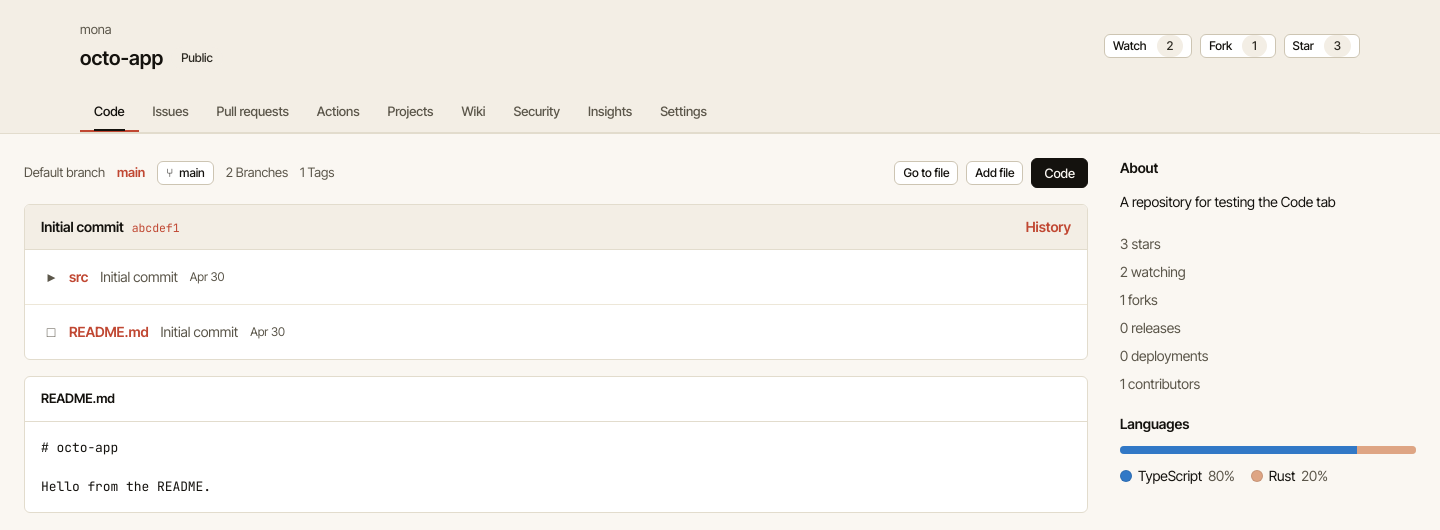
Test case: RepositoryCodeOverview › optimistically toggles the star control through a same-origin route
Click the button "Star 3".
click(1322, 46)  # box [1284,34,1360,58]
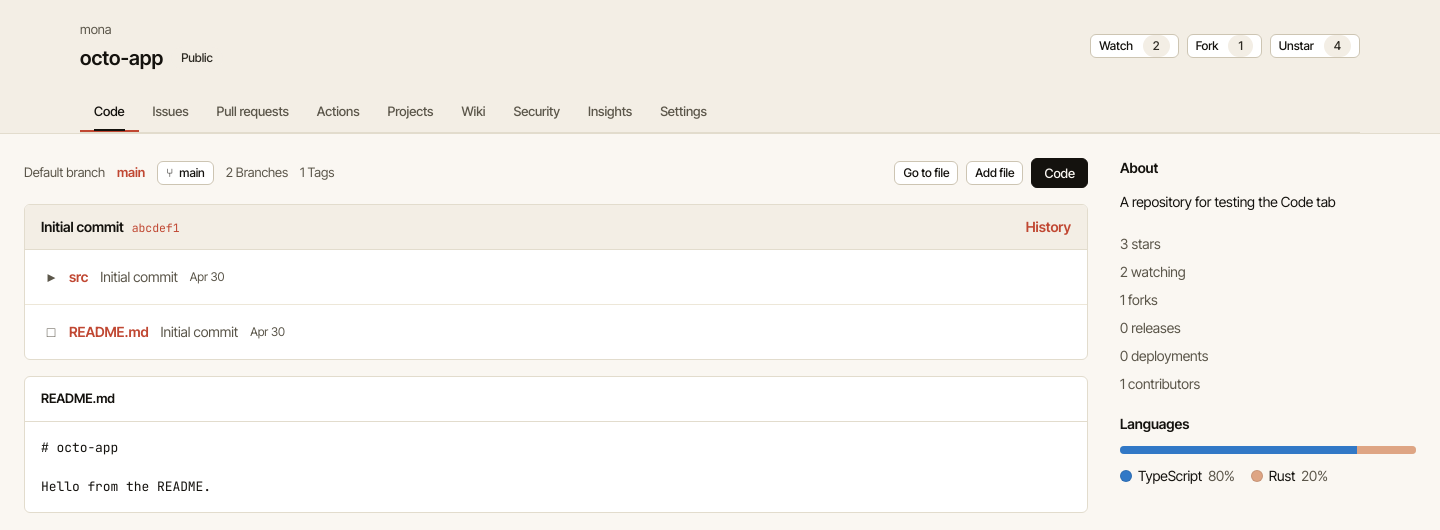
Now the button "Unstar 4" is shown, box [1270,34,1360,58]
